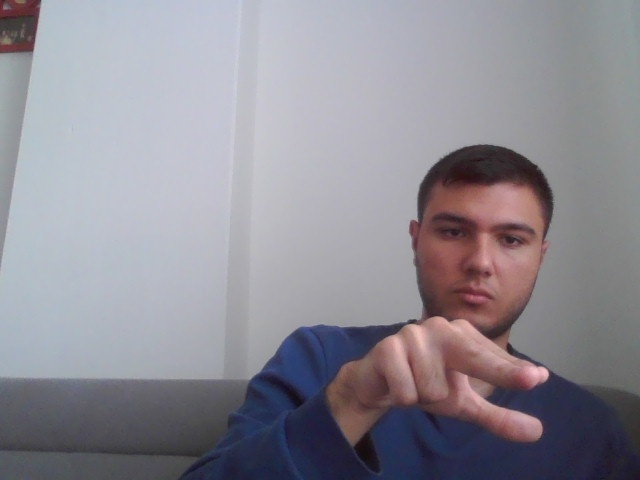no: (353, 313, 553, 445)
